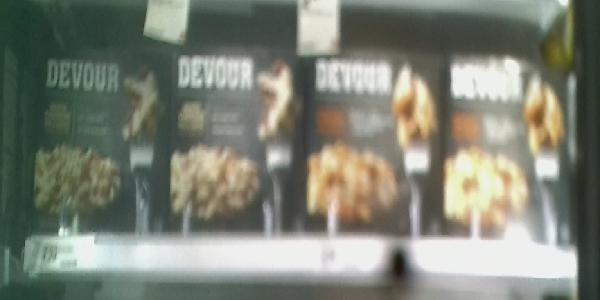pizza1: (21, 52, 168, 235), (170, 44, 305, 235), (304, 46, 437, 236), (442, 49, 570, 238)
